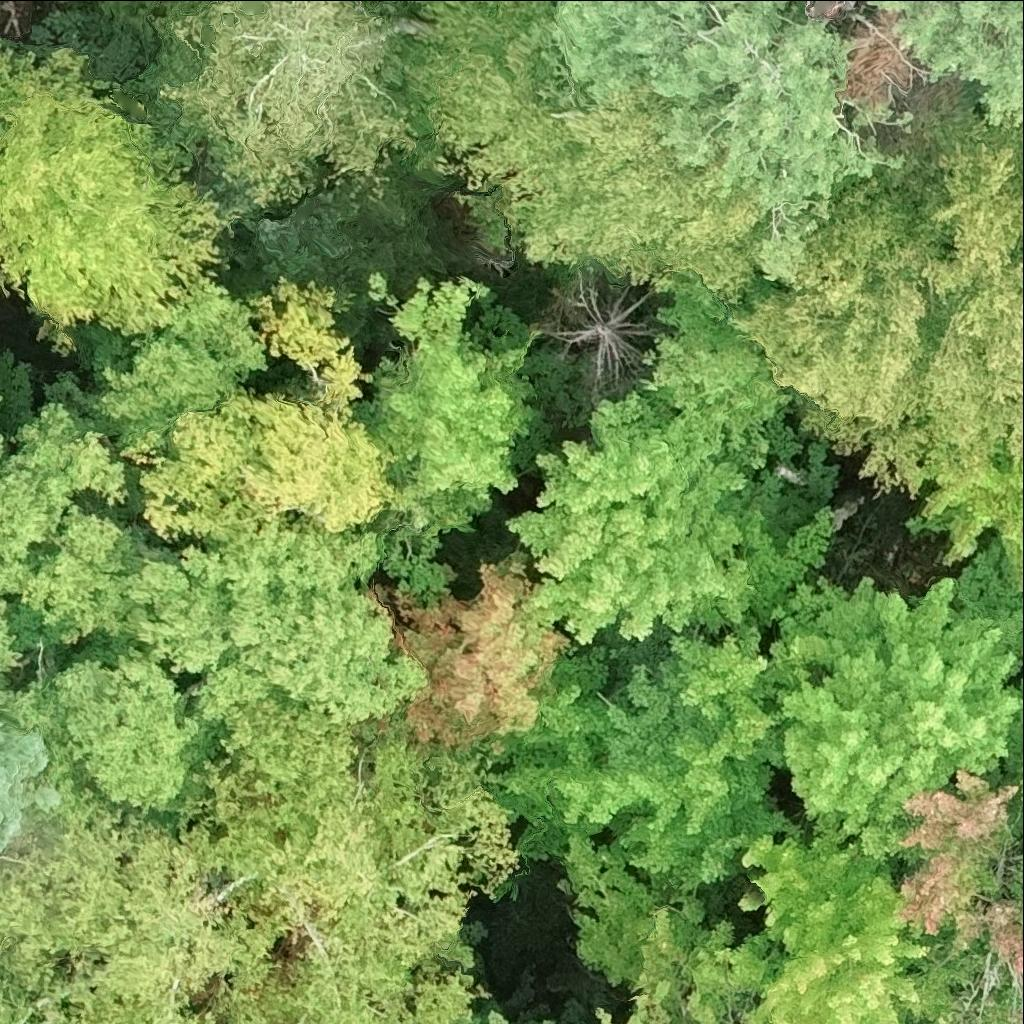crown: (0, 687, 516, 1023), (118, 274, 536, 597), (509, 280, 830, 648), (740, 143, 1023, 494), (556, 0, 905, 281), (482, 626, 806, 892), (785, 577, 1023, 860), (124, 506, 424, 725), (0, 48, 222, 331), (0, 400, 182, 675), (562, 806, 788, 1023), (165, 0, 405, 204), (0, 632, 228, 826), (742, 809, 924, 1023), (895, 768, 1023, 1023), (398, 565, 569, 748), (101, 272, 268, 442), (868, 0, 1023, 123), (909, 436, 1023, 586), (547, 271, 653, 399), (0, 708, 47, 857), (593, 1005, 618, 1023)
